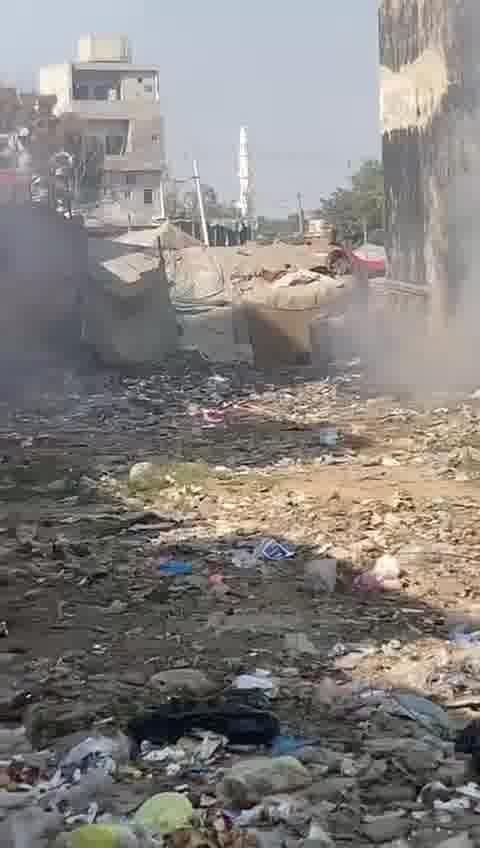garbage: (7, 374, 480, 848)
